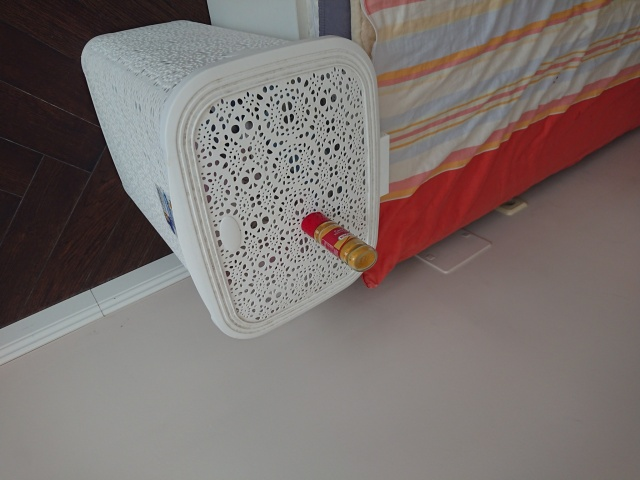Kotanyi Curry Spices Mix 70g: (299, 210, 379, 273)
